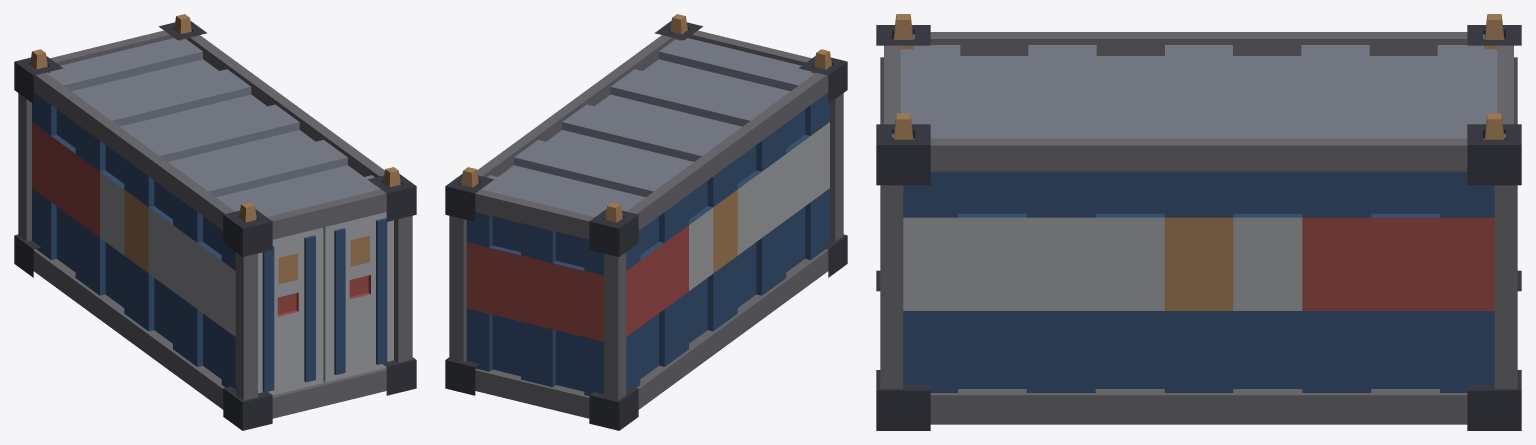
File: container.glb
3 views of the same model, side by side, from view 1: azimuth 30°, elevation 25°; view 2: azimuth 150°, elevation 25°; view 3: azimuth 270°, elevation 25° (orthographic). The views are drawn at different scales.
Visible parts, largest first — view 1: container-body, hatch-r-mesh, hatch-l-mesh, stack-lugs-mesh; view 2: container-body, stack-lugs-mesh; view 3: container-body, stack-lugs-mesh.
Boxes of the visible parts, x1,y1,x2,y2 form: container-body: [14, 21, 416, 430]; hatch-r-mesh: [323, 212, 393, 382]; hatch-l-mesh: [258, 227, 323, 395]; stack-lugs-mesh: [30, 14, 400, 222]; container-body: [445, 21, 847, 430]; stack-lugs-mesh: [461, 14, 831, 222]; container-body: [876, 25, 1521, 430]; stack-lugs-mesh: [893, 14, 1504, 139].
Bounding box in the file's own units: 0.99 × 1.17 × 2.25.
